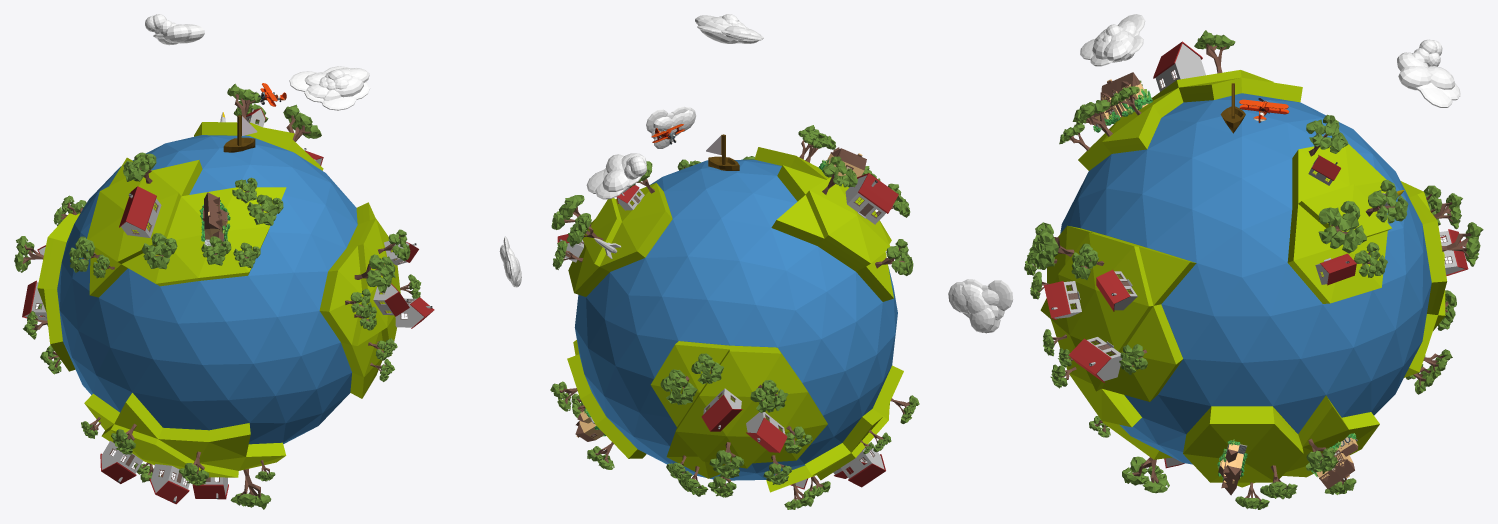
Rendered from planet.glb.
3 renders of one model, left to right at view 1: azimuth 30°, elevation 25°; view 2: azimuth 150°, elevation 25°; view 3: azimuth 270°, elevation 25°, orthographic. The views are drawn at different scales.
Parts seen in each view (by area): view 1: water, land, group725387764, hos.011, group1010629974, Node.002, hos.007, hos.006, tree, tree.012, tree.040, tree.009 (+10 smaller); view 2: water, land, group1010629974, hos.011, group725387764, group899814956, hos.010, hos.009, hos.006, tree.018, tree.019, tree.013 (+14 smaller); view 3: water, land, group1010629974, group899814956, group725387764, tree.040, hos.003, hos.011, Node.002, tree.039, tree.032, hos.002 (+15 smaller).
Boxes of the visible parts, x1,y1,x2,y2 form: water: (57,135,357,444); land: (37,122,400,477); group725387764: (289,66,370,110); hos.011: (119,186,161,237); group1010629974: (145,14,204,45); Node.002: (199,192,230,255); hos.007: (149,464,189,504); hos.006: (100,441,142,483); tree: (354,254,395,292); tree.012: (141,233,177,269); tree.040: (283,104,321,141); tree.009: (247,194,283,225); water: (574,159,897,480); land: (567,147,903,492); group1010629974: (586,153,647,199); hos.011: (845,173,898,224); group725387764: (695,14,763,43); group899814956: (646,106,696,148); hos.010: (746,412,787,452); hos.009: (701,388,742,431); hos.006: (841,443,885,487); tree.018: (660,369,697,404); tree.019: (750,379,788,412); tree.013: (875,239,913,275); water: (1060,93,1431,464); land: (1040,70,1447,487); group1010629974: (1397,39,1460,107); group899814956: (948,279,1013,333); group725387764: (1080,14,1145,66); tree.040: (1318,201,1366,253); hos.003: (1069,337,1122,382); hos.011: (1153,41,1205,91); Node.002: (1093,72,1152,132); tree.039: (1365,179,1408,223); tree.032: (1122,456,1169,493); hos.002: (1044,281,1081,319).
Bounding box in the file's own units: 2.52 × 2.96 × 2.85.
Materials: 27 (1 with a texture image).
